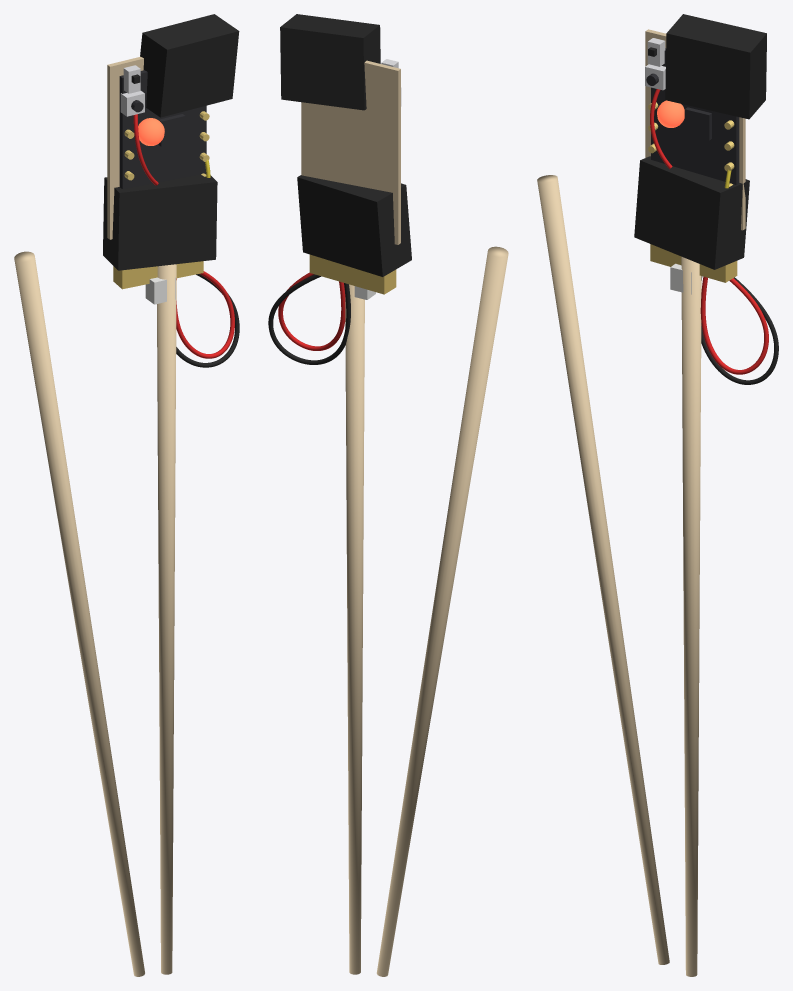
File: chopstickv1.glb
3 renders of one model, left to right at view 1: azimuth 30°, elevation 25°; view 2: azimuth 150°, elevation 25°; view 3: azimuth 330°, elevation 25°, orthographic.
Parts seen in each view (by area): view 1: Chopstick_Plain, Chopstick_Instrumented, TapeBattery, TapeTop, DevBoard, Perfboard, Battery, WireRed, Chip, WireBlack, LED, JST; view 2: Chopstick_Plain, Chopstick_Instrumented, Perfboard, TapeBattery, TapeTop, Battery, WireBlack, WireRed; view 3: Chopstick_Plain, Chopstick_Instrumented, TapeBattery, TapeTop, DevBoard, Perfboard, WireRed, Battery, WireBlack, Chip, LED.
Boxes of the visible parts, box(x1,y1,x2,y2) form: Chopstick_Plain: box(14, 251, 144, 976); Chopstick_Instrumented: box(157, 264, 176, 974); TapeBattery: box(103, 173, 217, 270); TapeTop: box(140, 14, 239, 117); DevBoard: box(119, 70, 206, 188); Perfboard: box(107, 56, 143, 239); Battery: box(113, 261, 203, 289); WireRed: box(176, 271, 234, 358); Chip: box(158, 114, 185, 146); WireBlack: box(176, 274, 239, 367); LED: box(138, 118, 164, 145); JST: box(145, 277, 175, 304); Chopstick_Plain: box(376, 246, 508, 976); Chopstick_Instrumented: box(345, 284, 364, 974); Perfboard: box(301, 60, 400, 244); TapeBattery: box(297, 175, 411, 276); TapeTop: box(280, 14, 380, 110); Battery: box(309, 254, 396, 294); WireBlack: box(268, 274, 350, 364); WireRed: box(278, 272, 345, 350); Chopstick_Plain: box(537, 175, 669, 964); Chopstick_Instrumented: box(681, 256, 701, 976); TapeBattery: box(634, 156, 749, 269); TapeTop: box(665, 14, 766, 119); DevBoard: box(651, 48, 739, 184); Perfboard: box(645, 29, 745, 230); WireRed: box(700, 276, 768, 374); Battery: box(650, 244, 737, 282); WireBlack: box(701, 276, 778, 384); Chip: box(684, 107, 711, 140); LED: box(657, 100, 684, 127).
Bounding box in the file's own units: 0.0765 × 0.2981 × 0.0194.
